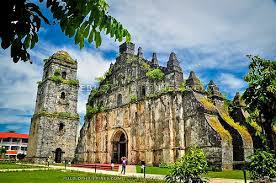Environmental Damage: (49, 74, 80, 86), (88, 84, 112, 97), (145, 67, 166, 81), (84, 105, 105, 117)
Paoay Church: (28, 40, 212, 170)
